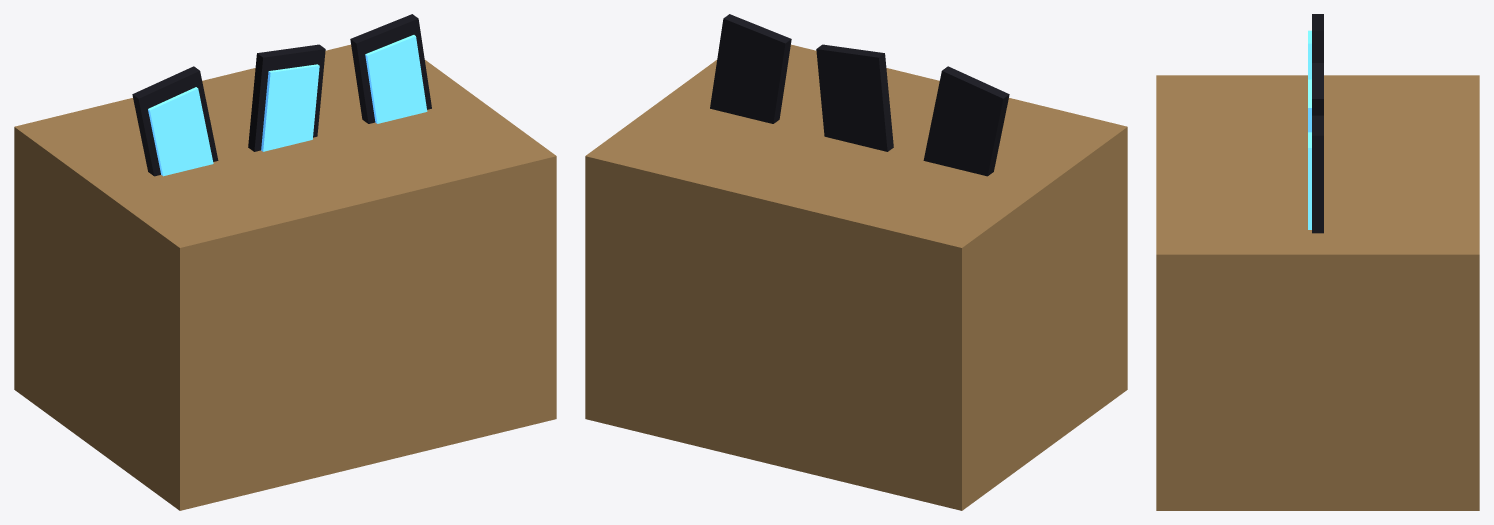
The model's file is fair_phone_box.glb.
3 views of the same model, side by side, from view 1: azimuth 30°, elevation 25°; view 2: azimuth 150°, elevation 25°; view 3: azimuth 270°, elevation 25° (orthographic). The views are drawn at different scales.
Visible parts, largest first — view 1: box_phone_box_card, screens_phone_screen, phones_ghost_dark; view 2: box_phone_box_card, phones_ghost_dark; view 3: box_phone_box_card, phones_ghost_dark, screens_phone_screen.
Part boxes in pixels (x1,y1,x2,y2): box_phone_box_card: [14, 44, 556, 510]; screens_phone_screen: [148, 35, 427, 176]; phones_ghost_dark: [132, 14, 431, 176]; box_phone_box_card: [585, 44, 1127, 510]; phones_ghost_dark: [710, 14, 1009, 176]; box_phone_box_card: [1156, 75, 1479, 510]; phones_ghost_dark: [1312, 14, 1323, 233]; screens_phone_screen: [1308, 30, 1311, 229].
Size of the model in its own units: 0.42 by 0.3807 by 0.32.
